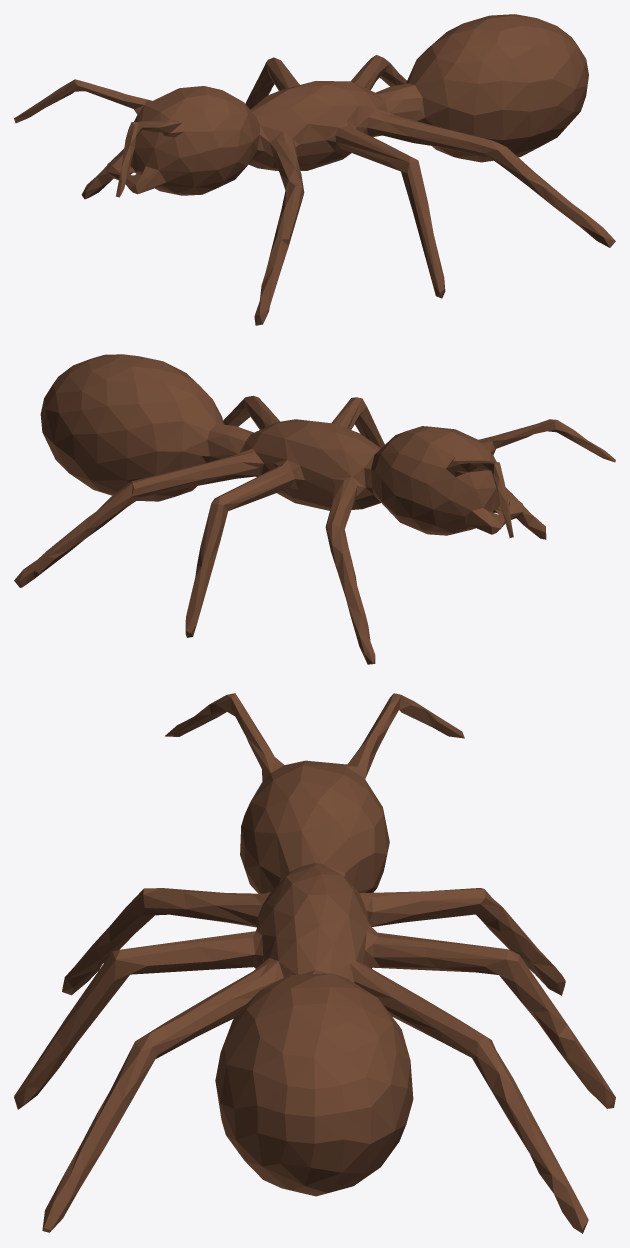
File: NEW_RECOVERY_017_LOD2.glb
The picture shows the model from 3 angles, top to bottom: view 1: azimuth 30°, elevation 25°; view 2: azimuth 150°, elevation 25°; view 3: azimuth 270°, elevation 25°; orthographic projection. The views are drawn at different scales.
Visible parts, largest first — view 1: Ant_solid; view 2: Ant_solid; view 3: Ant_solid.
Boxes of the visible parts, box(x1,y1,x2,y2) form: Ant_solid: box(14, 14, 615, 325); Ant_solid: box(14, 354, 615, 664); Ant_solid: box(14, 693, 615, 1233).
Size of the model in its own units: 5.37 by 1.77 by 3.79.
